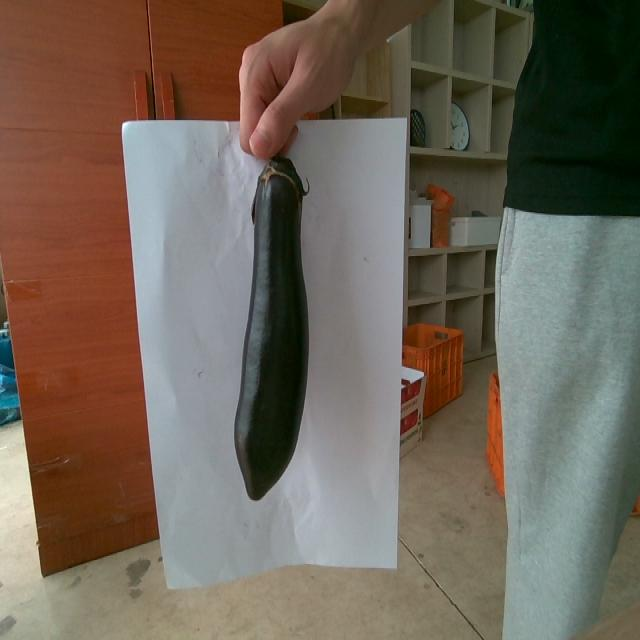Egg plant: (234, 156, 308, 499)
